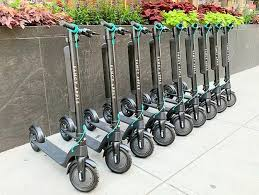kick_board: (29, 23, 100, 192)
kick_handler: (59, 20, 99, 37), (101, 21, 131, 36), (154, 22, 171, 35), (173, 24, 185, 35), (201, 23, 211, 33)
kick_neck: (68, 40, 86, 139), (103, 40, 118, 126), (128, 39, 142, 117), (151, 39, 164, 109), (171, 39, 182, 96), (187, 39, 198, 92), (201, 39, 209, 87), (222, 35, 230, 78), (211, 37, 218, 80)
kick_wheel: (68, 158, 99, 192), (105, 145, 133, 174), (131, 133, 154, 158), (153, 125, 175, 146), (173, 115, 192, 135), (188, 108, 206, 127), (30, 125, 41, 151), (59, 119, 72, 140), (202, 102, 217, 120), (84, 111, 96, 130), (121, 99, 134, 116), (224, 91, 237, 108), (215, 97, 228, 113), (103, 105, 112, 123)
